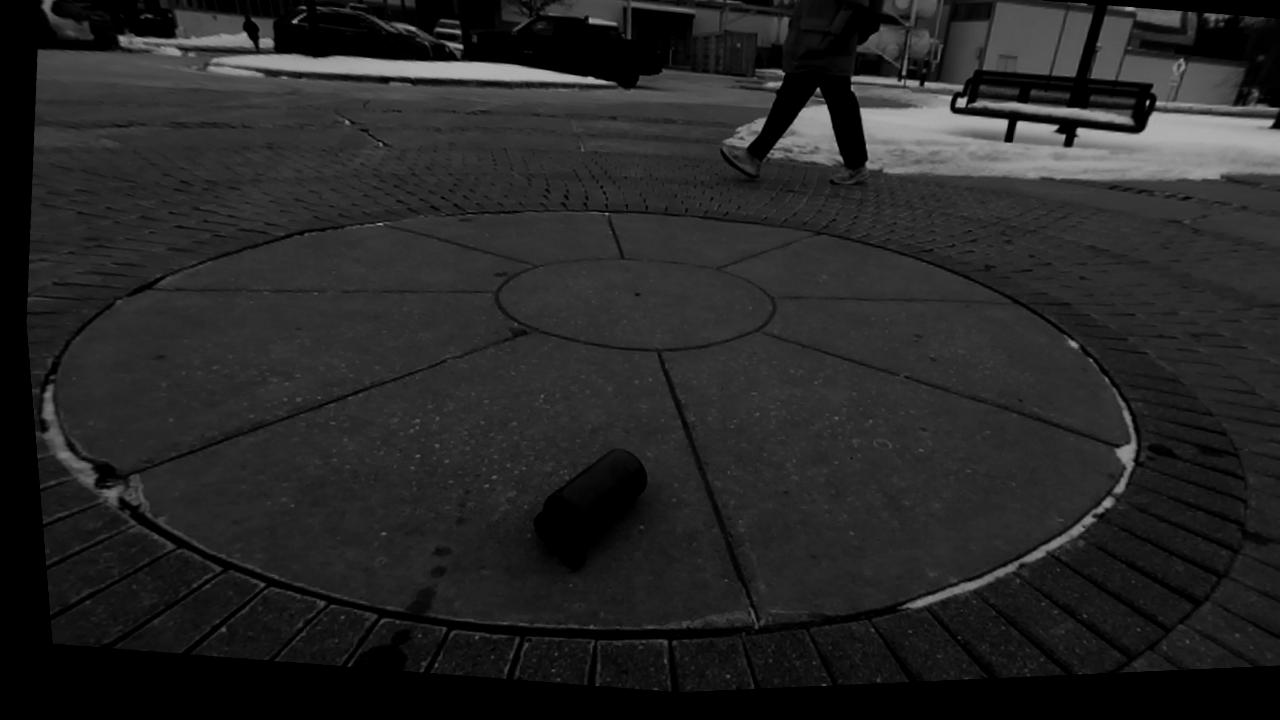bottle: (535, 450, 646, 568)
